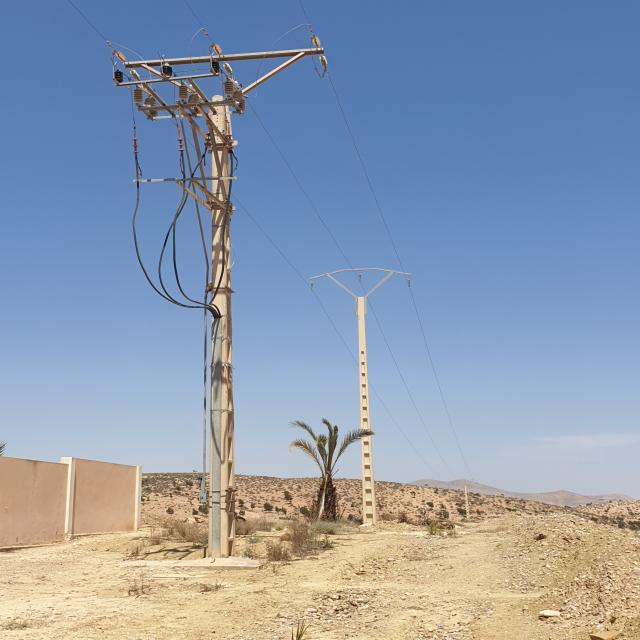Electric pole: (207, 105, 234, 559), (317, 273, 371, 430), (334, 268, 410, 289), (360, 436, 377, 525)
Tree: (289, 419, 375, 522)
